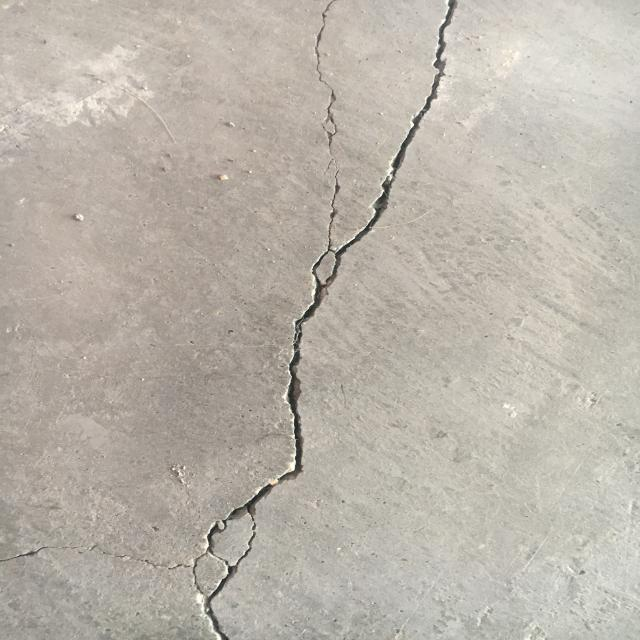Rachadura: (181, 0, 469, 640)
